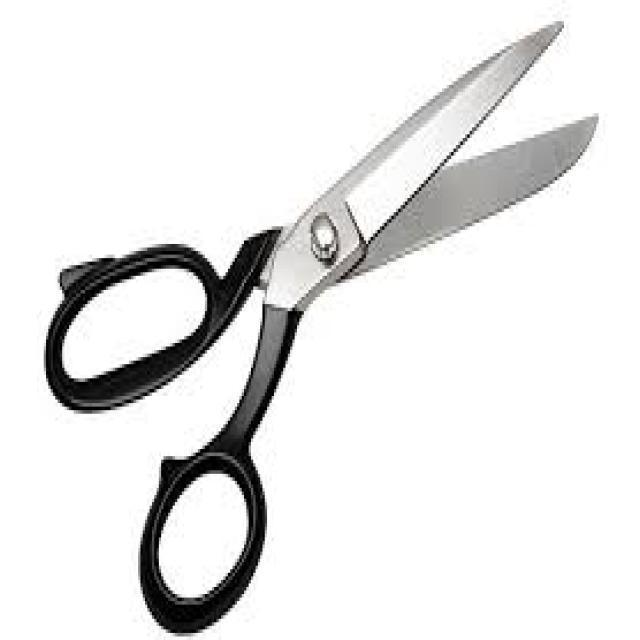Scissors: (33, 5, 611, 640)
